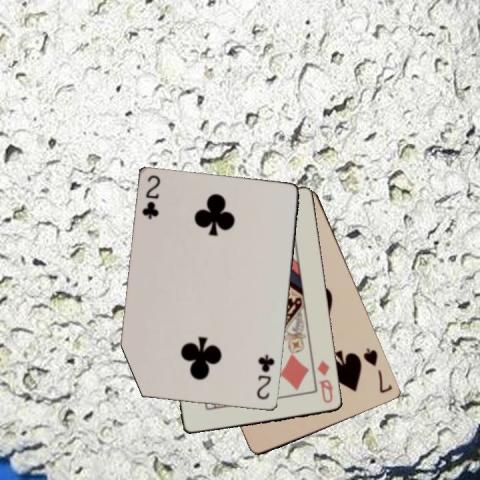2c: (254, 352, 277, 401), (139, 172, 162, 220)
7s: (361, 344, 394, 394)
Qd: (314, 358, 334, 405)
